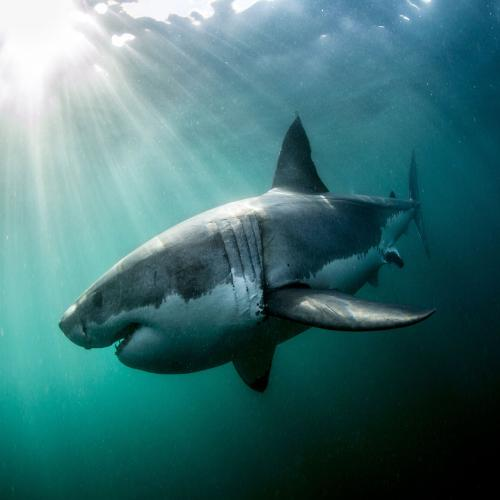shark-endangered: (54, 195, 428, 375)
